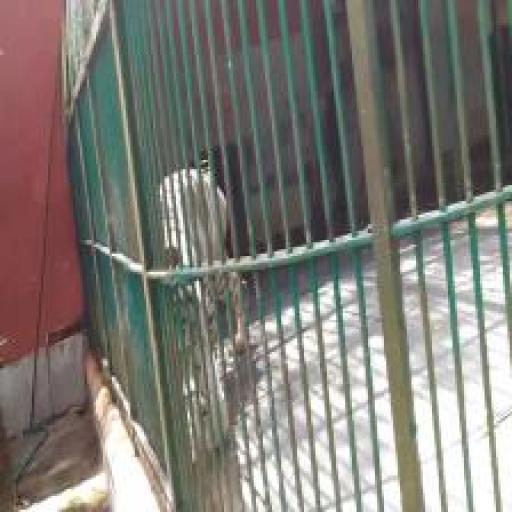Tiger: (151, 167, 248, 473)
